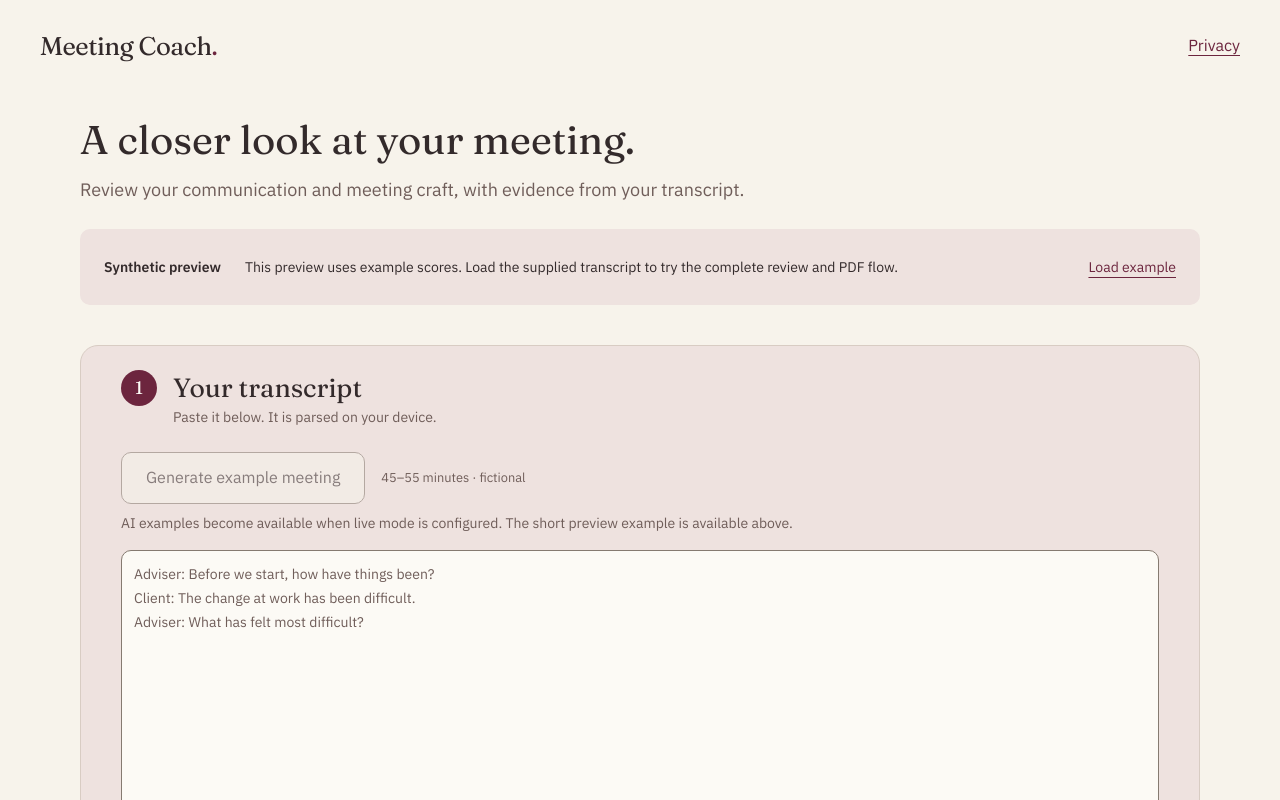
Test case: preserves the paste and shows a nearby error when generation fails
Click the button "Load example".
click(1132, 267)  # box [1088, 245, 1176, 289]
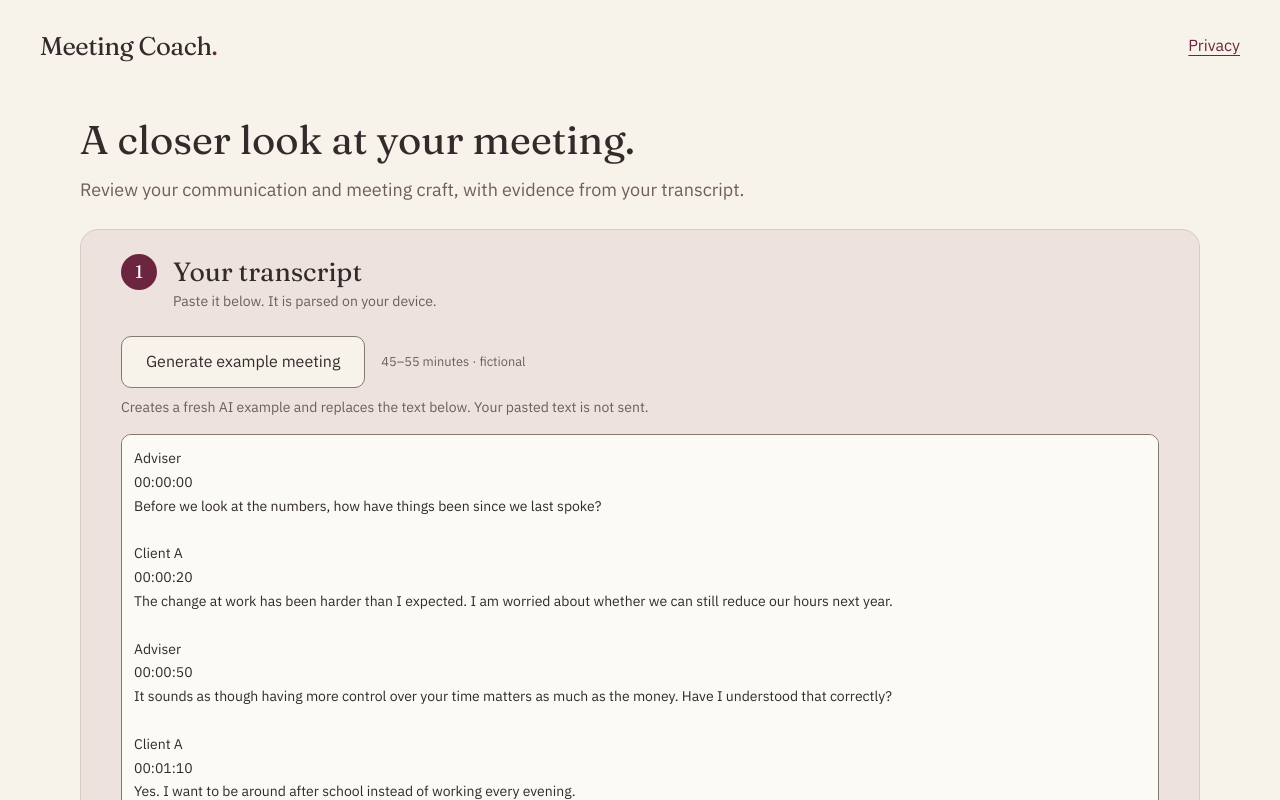
Click the button "Generate example meeting".
click(243, 362)  # box [121, 336, 365, 388]
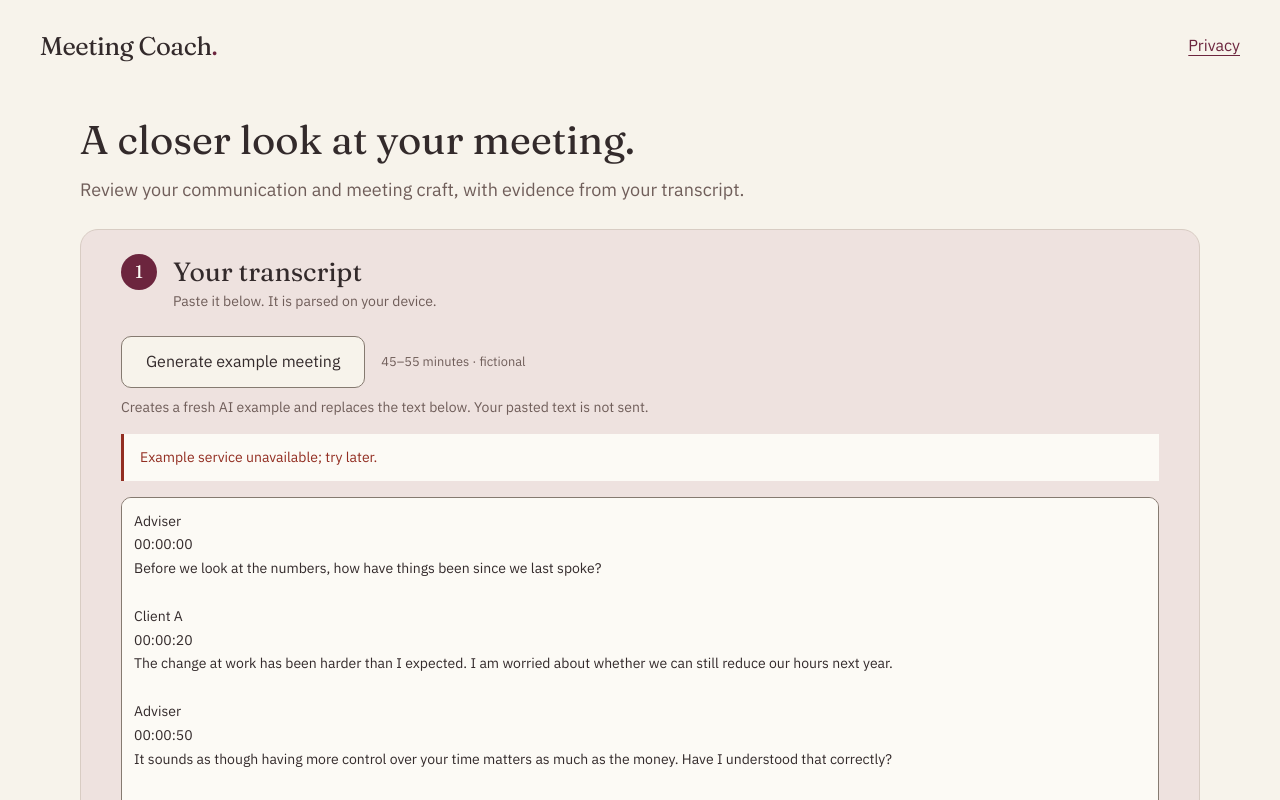
Expected: the button "Generate example meeting" is enabled, [121, 336, 365, 388]
Expected: the message "Example service unavailable; try later." is shown, [121, 434, 1159, 481]
